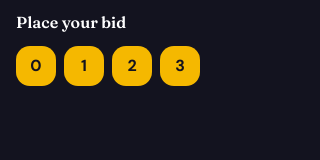
Test: BiddingPanel › clears the spinner after a failed bid so the player can retry
Click the button named "Bid 0": click(36, 66) [16,46,56,86]
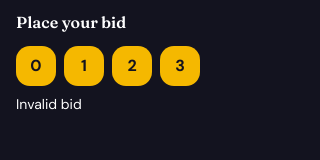
Result: the text "Invalid bid" is shown at [16,95,82,113]
